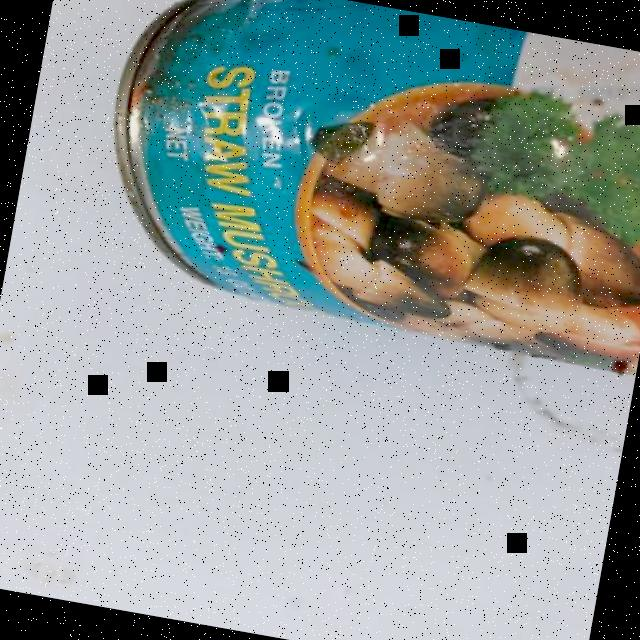can: (78, 0, 640, 371)
